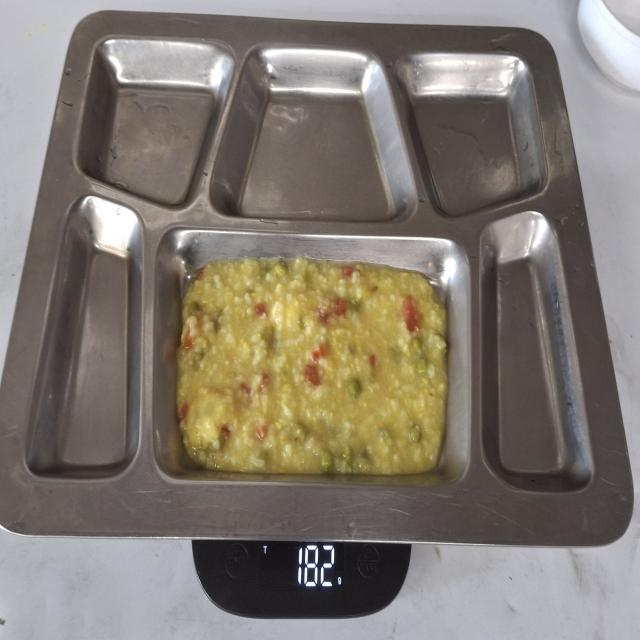Khichdi: (172, 248, 454, 485)
